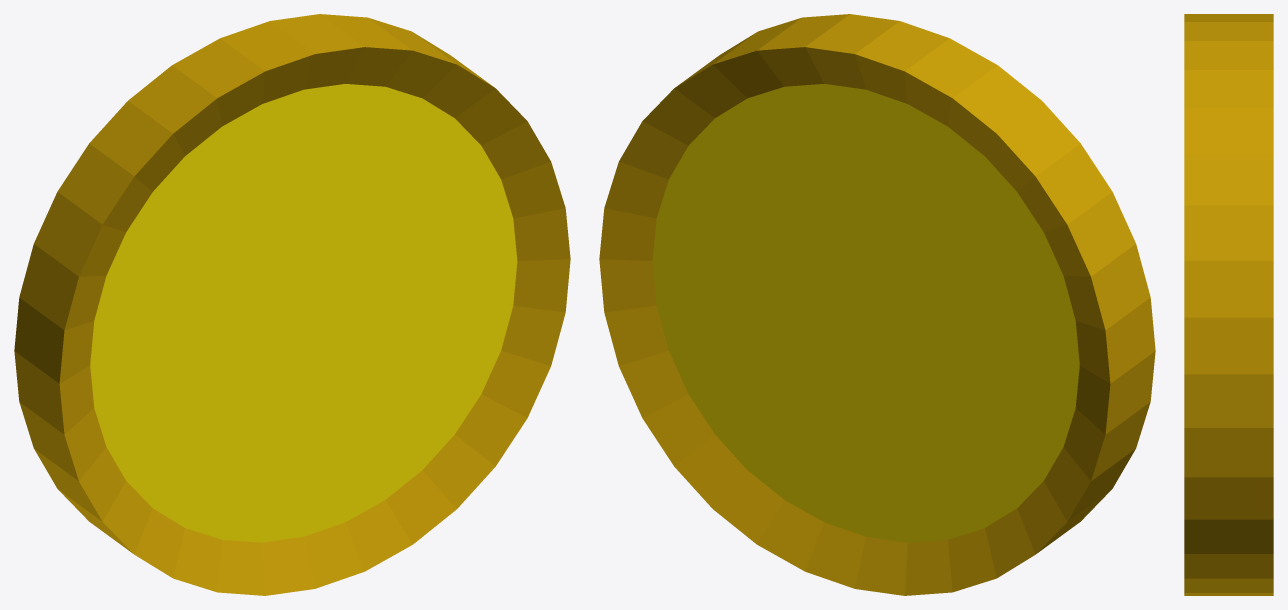
File: coin.glb
3 views of the same model, side by side, from view 1: azimuth 30°, elevation 25°; view 2: azimuth 150°, elevation 25°; view 3: azimuth 270°, elevation 25° (orthographic).
Visible parts, largest first — view 1: coin; view 2: coin; view 3: coin.
Boxes of the visible parts, x1,y1,x2,y2 form: coin: (14,14,570,595); coin: (599,14,1155,595); coin: (1184,14,1273,595).
Size of the model in its own units: 13.06 by 13.06 by 2.
